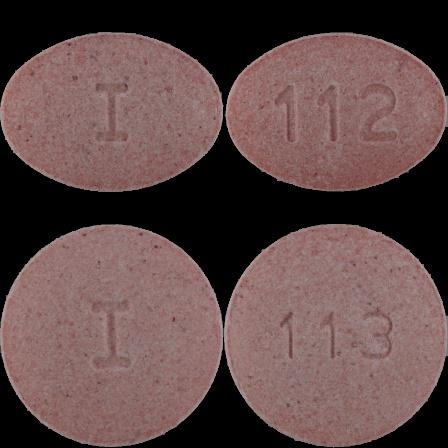31722-727: (0, 0, 224, 224)
